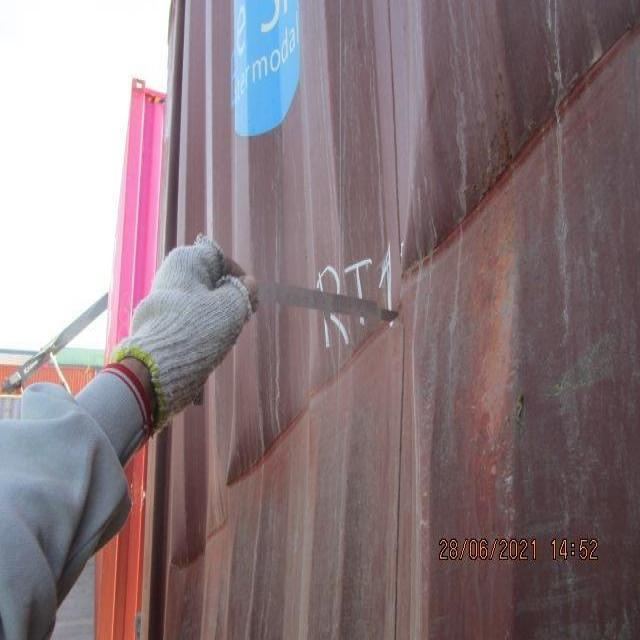dent: (172, 14, 630, 597)
